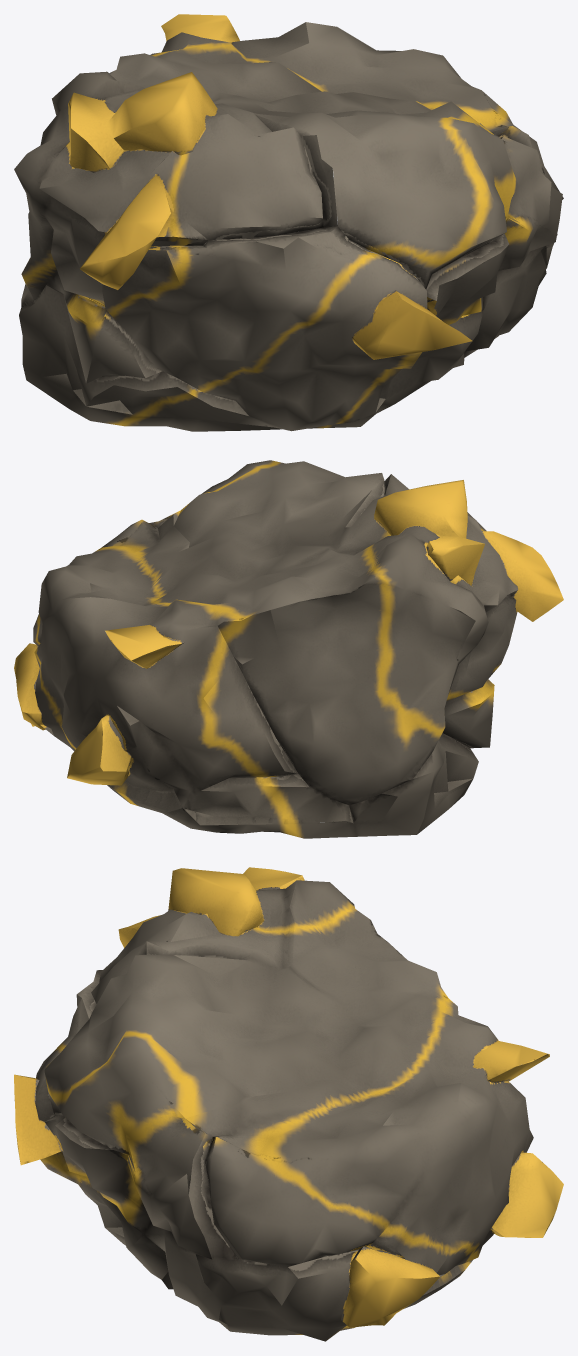
File: mineral_oro.fbx
The picture shows the model from 3 angles, top to bottom: view 1: azimuth 30°, elevation 25°; view 2: azimuth 150°, elevation 25°; view 3: azimuth 270°, elevation 25°; orthographic projection. The views are drawn at different scales.
Parts seen in each view (by area): view 1: mineral_oro; view 2: mineral_oro; view 3: mineral_oro.
Part boxes in pixels (left/top/right/bottom): mineral_oro: left=14, top=14, right=563, bottom=431; mineral_oro: left=14, top=460, right=563, bottom=838; mineral_oro: left=14, top=867, right=563, bottom=1341.
Bounding box in the file's own units: 2.69 × 1.61 × 2.62.
1 material, 1 textured.
